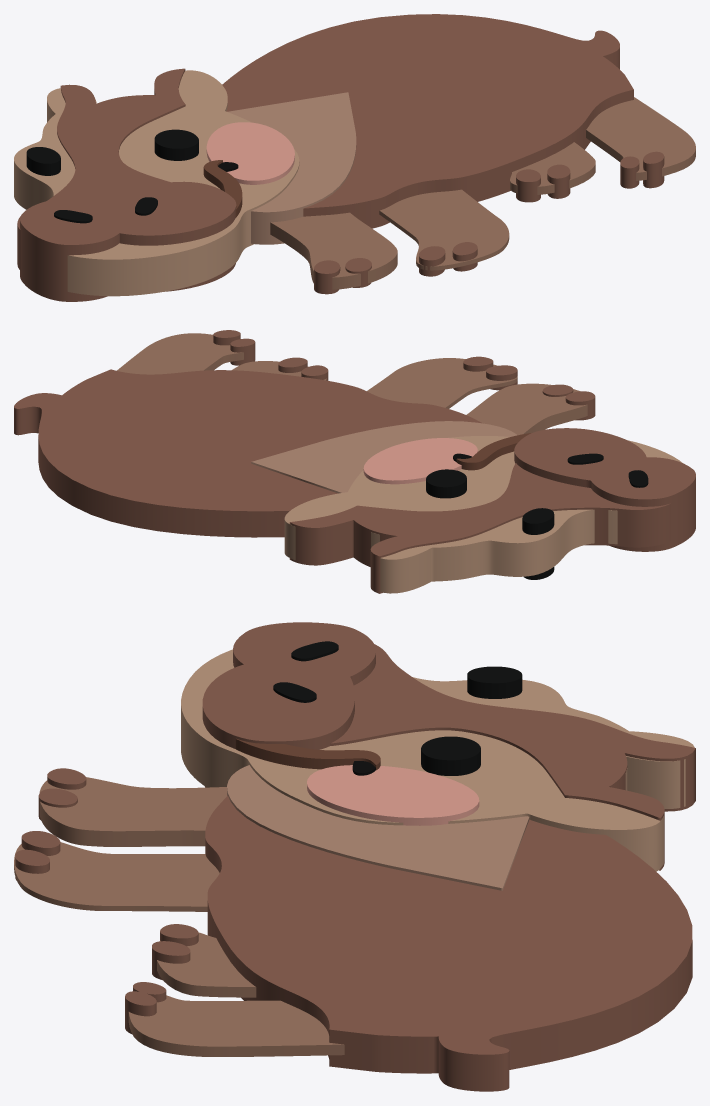
Rendered from emoji_u1f99b.glb.
3 views of the same model, one above another, from view 1: azimuth 30°, elevation 25°; view 2: azimuth 150°, elevation 25°; view 3: azimuth 270°, elevation 25° (orthographic). The views are drawn at different scales.
Visible parts, largest first — view 1: emoji_u1f99b; view 2: emoji_u1f99b; view 3: emoji_u1f99b.
Part boxes in pixels (x1=…): emoji_u1f99b: x1=14, y1=14, x2=695, y2=301; emoji_u1f99b: x1=14, y1=330, x2=695, y2=593; emoji_u1f99b: x1=14, y1=622, x2=695, y2=1091.
Bounding box in the file's own units: 0.0337 × 0.003 × 0.0234.
